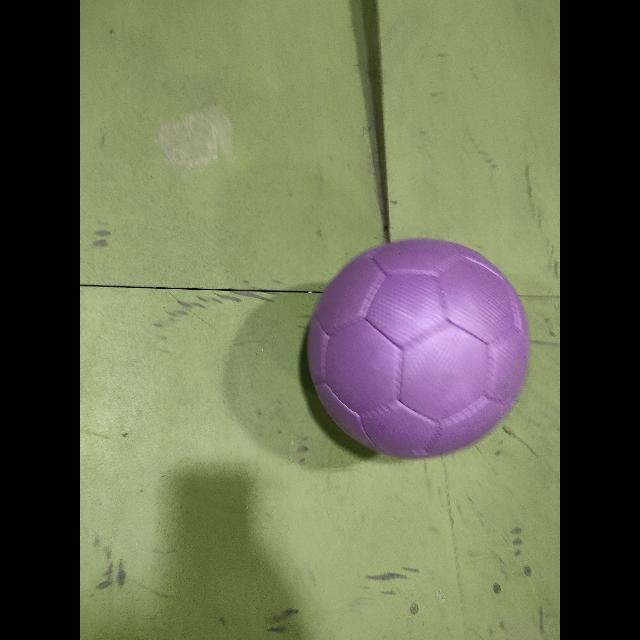P: (308, 240, 530, 458)
